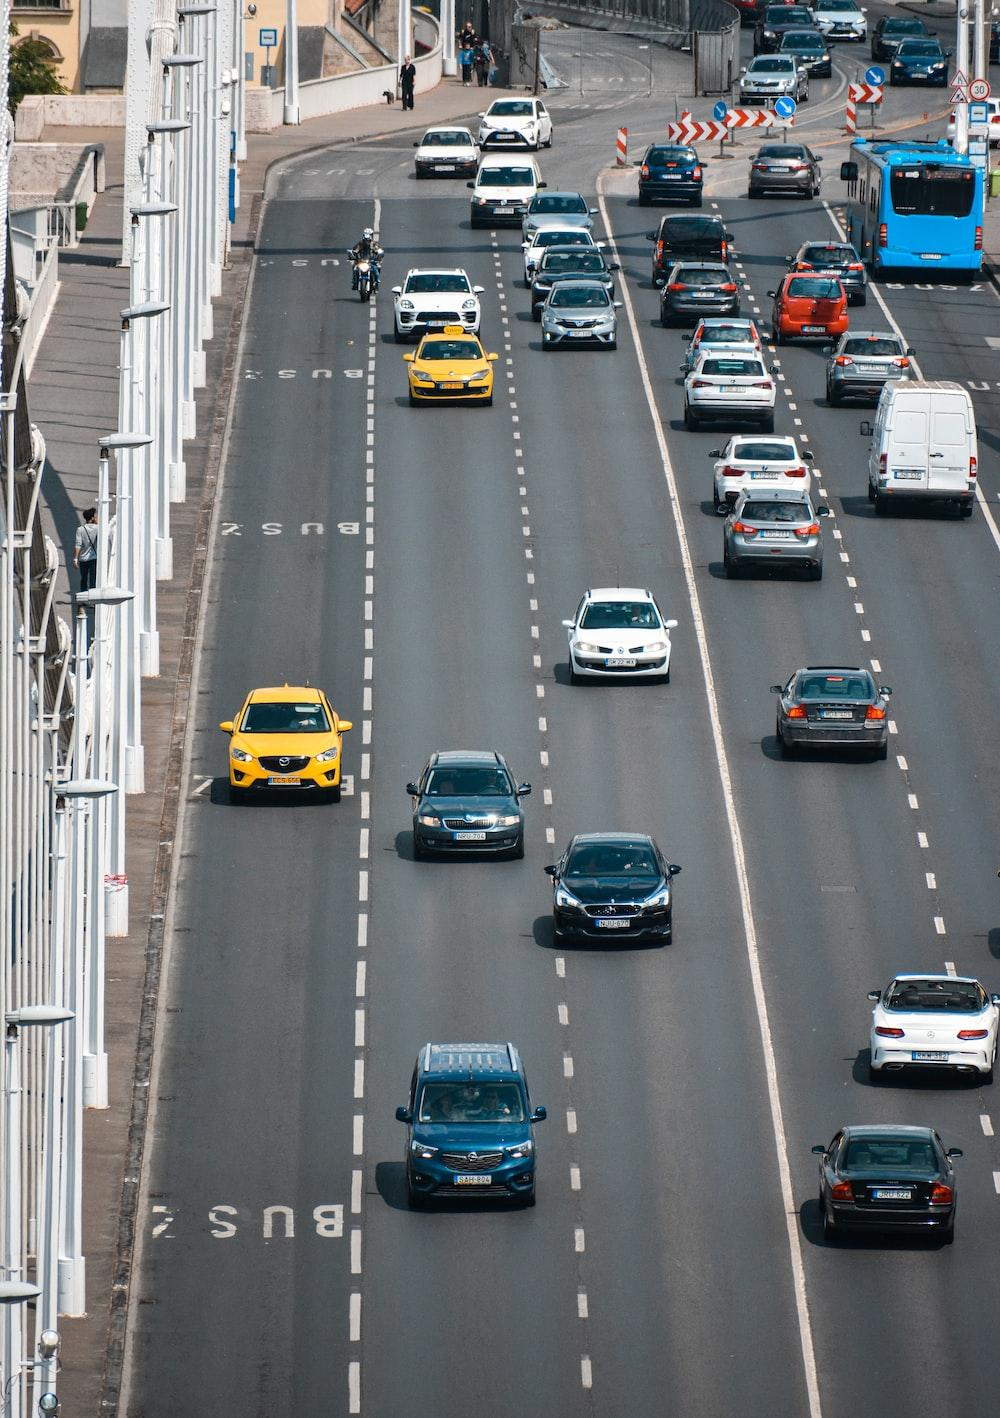HeavyVehicle: (846, 137, 985, 275)
LightVehicle: (396, 1039, 543, 1213), (806, 1120, 963, 1252), (218, 680, 348, 810), (538, 829, 676, 950), (860, 969, 1000, 1086), (402, 746, 530, 867), (871, 381, 981, 518), (557, 586, 677, 690), (773, 665, 893, 767), (723, 493, 827, 586), (682, 352, 777, 430), (403, 337, 496, 409), (398, 266, 486, 334), (470, 154, 545, 229), (539, 284, 619, 352), (773, 275, 848, 344), (657, 268, 745, 327), (639, 141, 712, 206), (749, 142, 824, 202), (826, 331, 913, 382), (479, 97, 554, 148), (657, 213, 731, 263), (789, 237, 876, 278), (412, 127, 476, 178), (738, 55, 808, 101), (887, 37, 948, 86), (684, 316, 761, 352)
MotorCycle: (345, 247, 383, 303)
